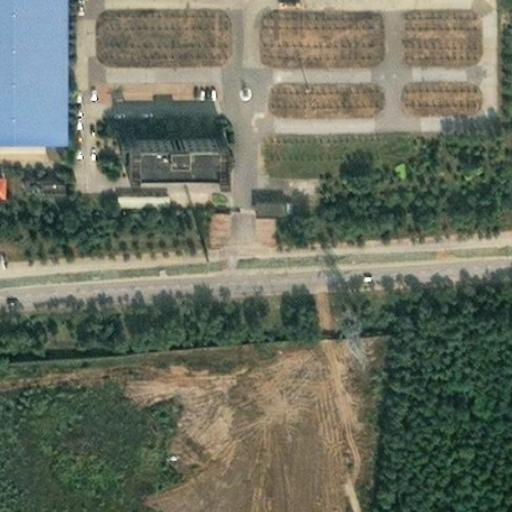building: (125, 119, 212, 150), (115, 186, 169, 206), (27, 175, 68, 195), (254, 197, 290, 215), (0, 172, 12, 200)
